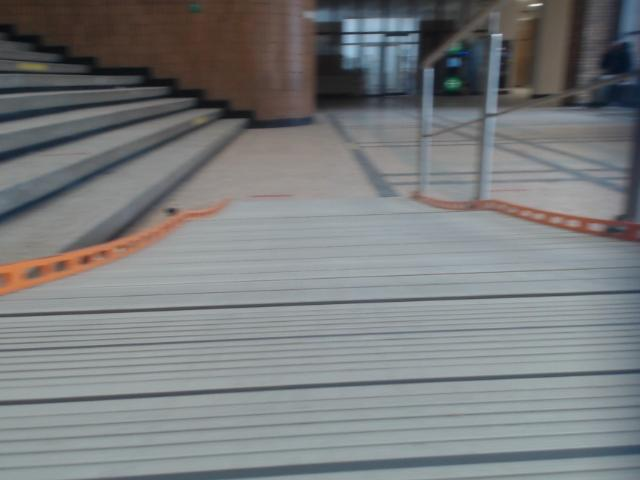rampDown: (0, 194, 639, 479)
ramps-railing: (432, 34, 637, 199), (418, 0, 507, 193)
